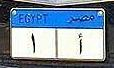1: (29, 32, 40, 56)
alif: (77, 32, 84, 56)
